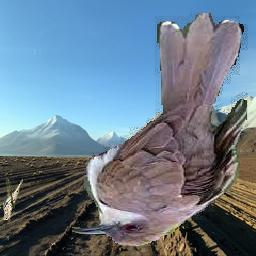Cuckoo: (73, 14, 250, 247)
Sparrow: (3, 178, 24, 220)
